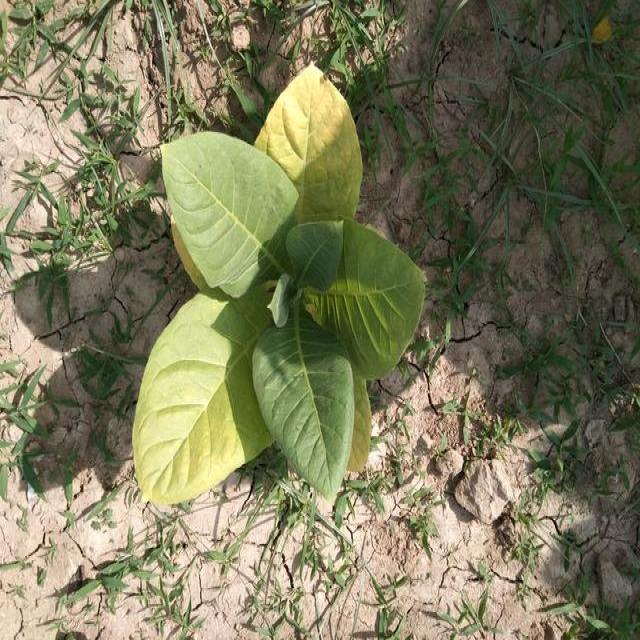crop: (132, 55, 430, 505)
